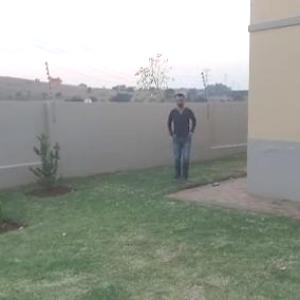follow: (166, 91, 198, 188)
